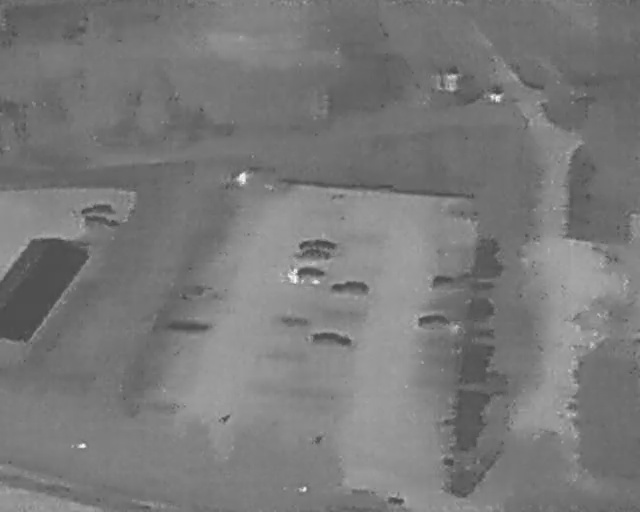Car: (285, 267, 327, 285), (330, 281, 370, 299), (307, 332, 352, 348), (417, 314, 456, 331), (298, 239, 338, 253), (292, 251, 331, 264), (84, 217, 119, 231), (431, 276, 459, 292), (80, 205, 117, 217)
